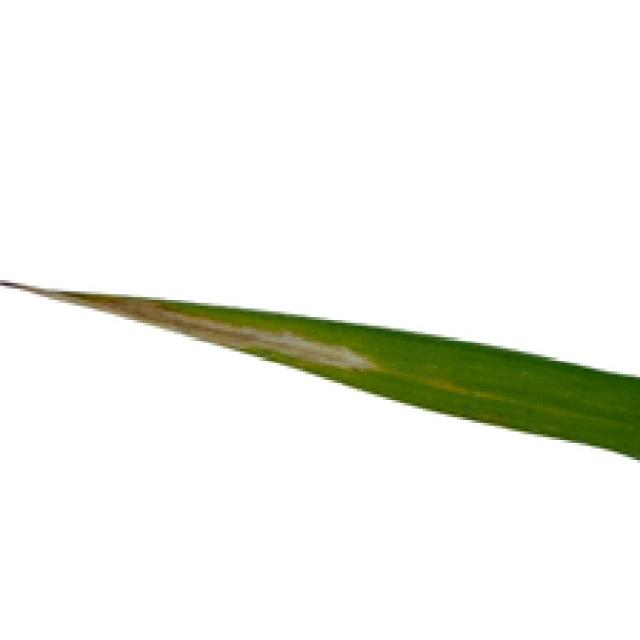Rice___Bacterial_Leaf_Blight: (0, 278, 637, 460)
